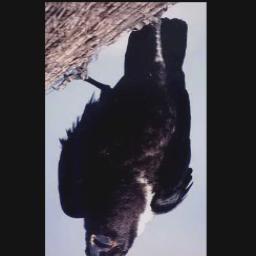Crow: (55, 10, 196, 256)
